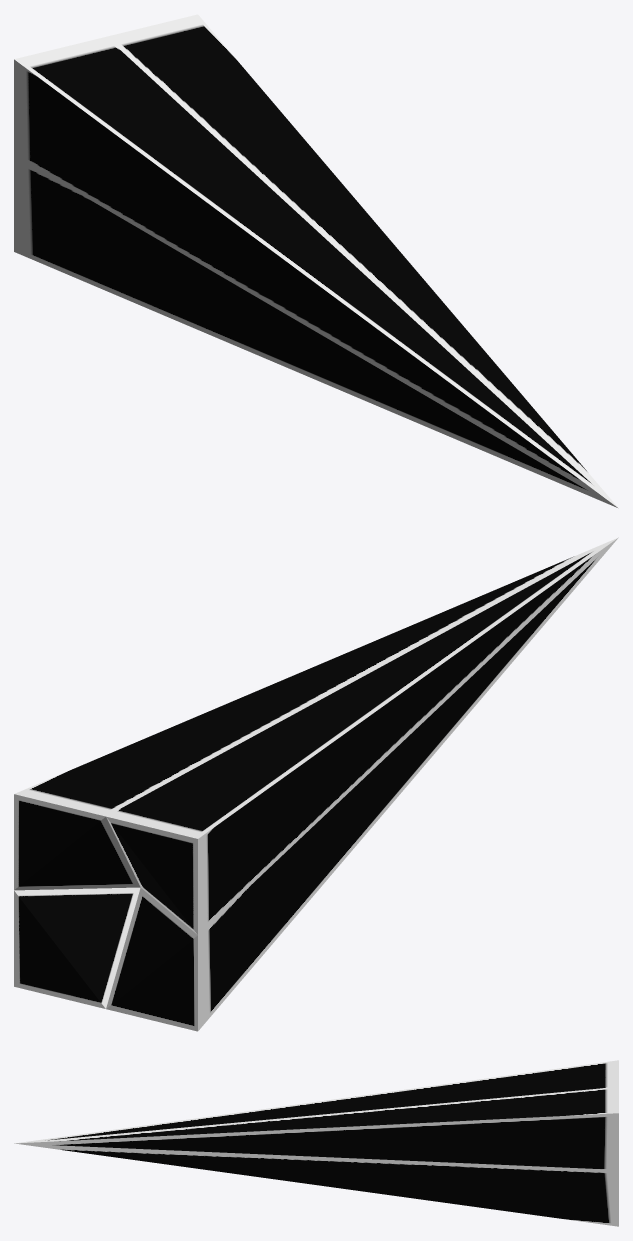
Rendered from arrow.obj.
The picture shows the model from 3 angles, top to bottom: view 1: azimuth 30°, elevation 25°; view 2: azimuth 150°, elevation 25°; view 3: azimuth 270°, elevation 25°; orthographic projection. The views are drawn at different scales.
Visible parts, largest first — view 1: Cube.001, Cube.002; view 2: Cube.001, Cube.002; view 3: Cube.001, Cube.002.
Part boxes in pixels (x1=…): Cube.001: x1=14, y1=14, x2=618, y2=508; Cube.002: x1=14, y1=17, x2=615, y2=505; Cube.001: x1=14, y1=537, x2=618, y2=1031; Cube.002: x1=14, y1=538, x2=616, y2=1030; Cube.001: x1=14, y1=1060, x2=618, y2=1226; Cube.002: x1=20, y1=1061, x2=615, y2=1221.
Bounding box in the file's own units: 1.55 × 1.55 × 7.5.
1 material, 1 textured.
